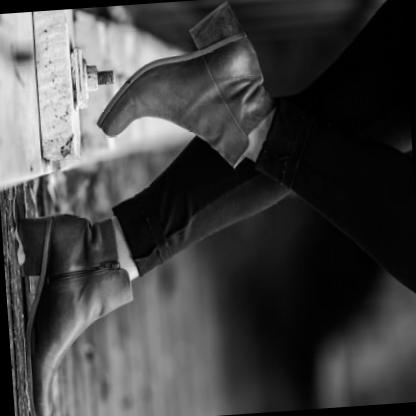ankle: (80, 238, 90, 247), (239, 104, 243, 110)
heel: (50, 230, 61, 242), (244, 41, 248, 47)
left_foot: (15, 214, 129, 416)
pinky: (112, 113, 114, 117), (50, 404, 52, 407)
right_foot: (90, 4, 277, 152)
toe: (38, 396, 40, 400), (121, 129, 123, 132)
